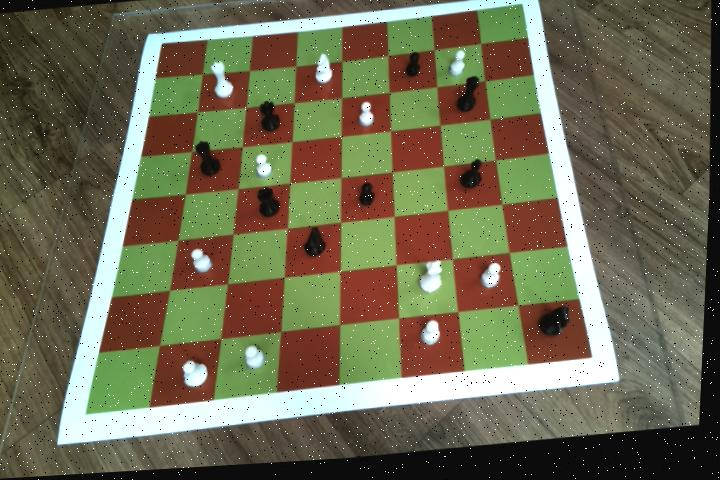chessboard-detect: (87, 10, 596, 416)
